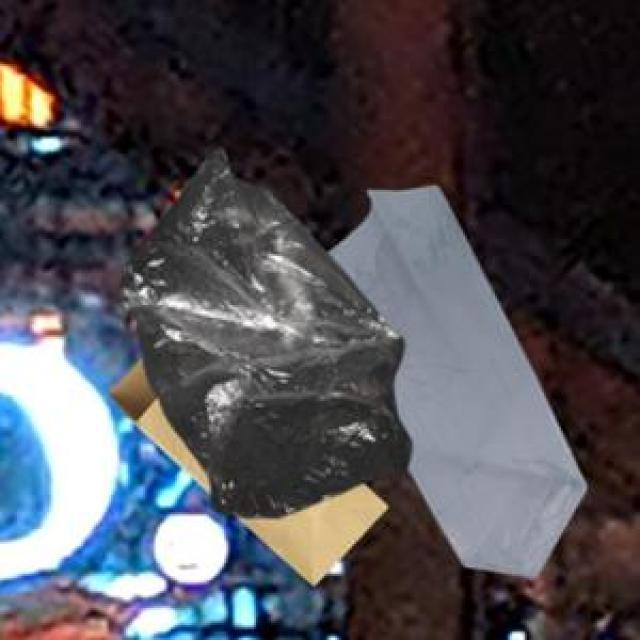paper: (105, 356, 384, 580)
